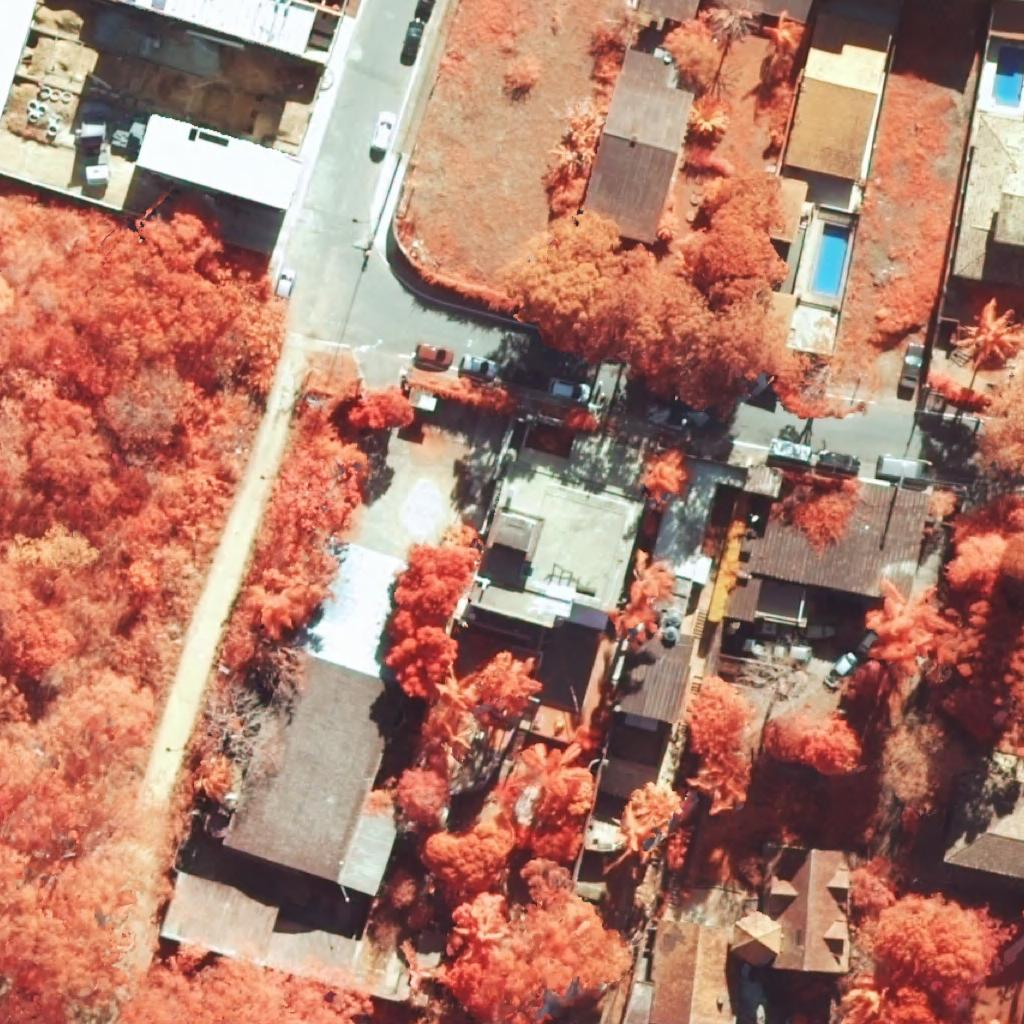pool: (812, 223, 850, 297), (992, 46, 1024, 107)
